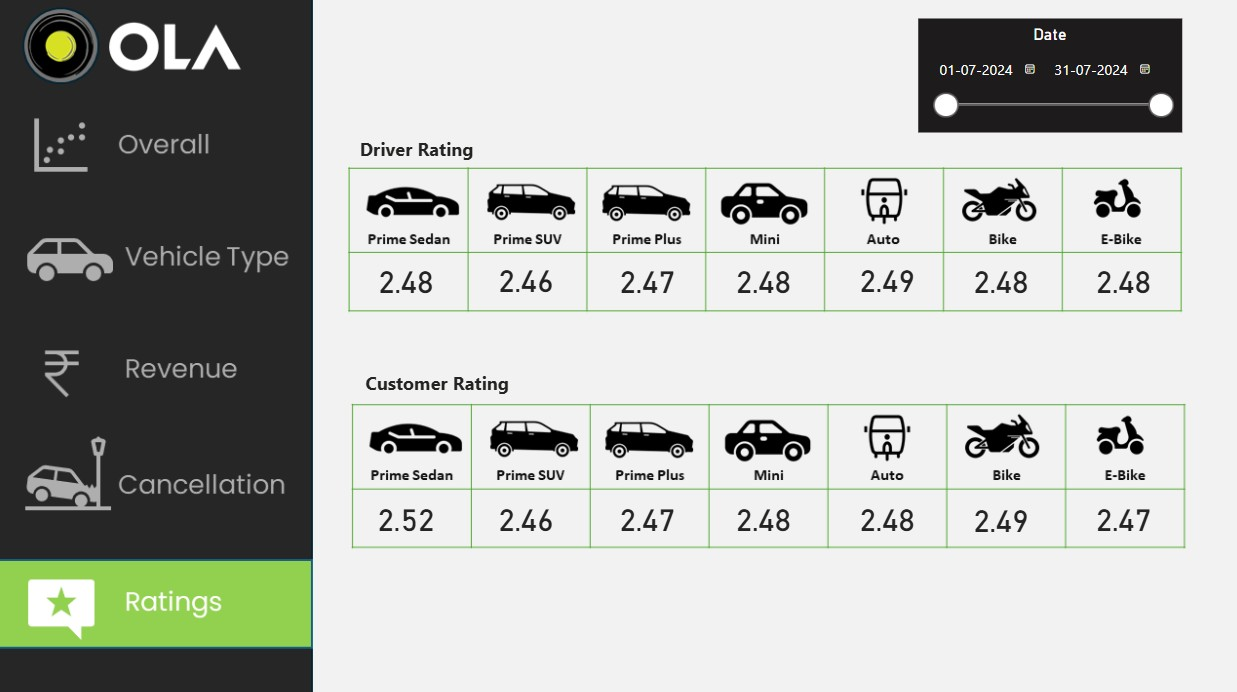

The dashboard page shown, as its layout file describes it:
{"tool":"powerbi","page":{"name":"Ratings","canvas":[1280,720],"ordinal":4},"visuals":[{"type":"actionButton","box":[0,106.7,321.5,101.8],"z":0},{"type":"cardVisual","fields":{"Data":["Avg(ola data set.Driver_Ratings)"]},"box":[367.8,266.2,101.5,50.8],"z":1000},{"type":"cardVisual","fields":{"Data":["Avg(ola data set.Driver_Ratings)"]},"box":[491.3,264.8,101.5,50.8],"z":2000},{"type":"cardVisual","fields":{"Data":["Avg(ola data set.Driver_Ratings)"]},"box":[614.8,266.2,101.5,50.8],"z":3000},{"type":"cardVisual","fields":{"Data":["Avg(ola data set.Driver_Ratings)"]},"box":[734.1,266.2,101.5,50.8],"z":4000},{"type":"cardVisual","fields":{"Data":["Avg(ola data set.Driver_Ratings)"]},"box":[861.8,264.8,101.5,50.8],"z":5000},{"type":"cardVisual","fields":{"Data":["Avg(ola data set.Driver_Ratings)"]},"box":[978.4,266.2,101.5,50.8],"z":6000},{"type":"cardVisual","fields":{"Data":["Avg(ola data set.Driver_Ratings)"]},"box":[1103.3,266.2,101.5,50.8],"z":7000},{"type":"cardVisual","fields":{"Data":["Avg(ola data set.Customer_Rating)"]},"box":[367.8,510.5,101.5,50.8],"z":8000},{"type":"textbox","box":[358.1,140,145.5,35.7],"z":9000},{"type":"textbox","box":[348.5,380.1,205.8,35.7],"z":10000},{"type":"cardVisual","fields":{"Data":["Avg(ola data set.Customer_Rating)"]},"box":[491.3,510.5,101.5,50.8],"z":11000},{"type":"cardVisual","fields":{"Data":["Avg(ola data set.Customer_Rating)"]},"box":[614.8,510.5,101.5,50.8],"z":12000},{"type":"cardVisual","fields":{"Data":["Avg(ola data set.Customer_Rating)"]},"box":[734.1,510.5,101.5,50.8],"z":13000},{"type":"cardVisual","fields":{"Data":["Avg(ola data set.Customer_Rating)"]},"box":[861.8,510.5,101.5,50.8],"z":14000},{"type":"cardVisual","fields":{"Data":["Avg(ola data set.Customer_Rating)"]},"box":[978.4,511.8,101.5,50.8],"z":15000},{"type":"cardVisual","fields":{"Data":["Avg(ola data set.Customer_Rating)"]},"box":[1103.3,510.5,101.5,50.8],"z":16000},{"type":"slicer","title":"Date","fields":{"Values":["ola data set.Date"]},"box":[945.5,23.3,270.3,116.6],"z":17000}]}

Visuals, with their boxes on the page's 1280x720 design canvas (x1, y1, x2, y2). These are canvas units, not pixel positions in the 1237x692 screenshot, which may show the page scaled, cropped or inside an application window:
actionButton: (0,107,322,208)
cardVisual - Avg(ola data set.Driver_Ratings): (368,266,469,317)
cardVisual - Avg(ola data set.Driver_Ratings): (491,265,593,316)
cardVisual - Avg(ola data set.Driver_Ratings): (615,266,716,317)
cardVisual - Avg(ola data set.Driver_Ratings): (734,266,836,317)
cardVisual - Avg(ola data set.Driver_Ratings): (862,265,963,316)
cardVisual - Avg(ola data set.Driver_Ratings): (978,266,1080,317)
cardVisual - Avg(ola data set.Driver_Ratings): (1103,266,1205,317)
cardVisual - Avg(ola data set.Customer_Rating): (368,510,469,561)
textbox: (358,140,504,176)
textbox: (348,380,554,416)
cardVisual - Avg(ola data set.Customer_Rating): (491,510,593,561)
cardVisual - Avg(ola data set.Customer_Rating): (615,510,716,561)
cardVisual - Avg(ola data set.Customer_Rating): (734,510,836,561)
cardVisual - Avg(ola data set.Customer_Rating): (862,510,963,561)
cardVisual - Avg(ola data set.Customer_Rating): (978,512,1080,563)
cardVisual - Avg(ola data set.Customer_Rating): (1103,510,1205,561)
"Date" slicer: (946,23,1216,140)
